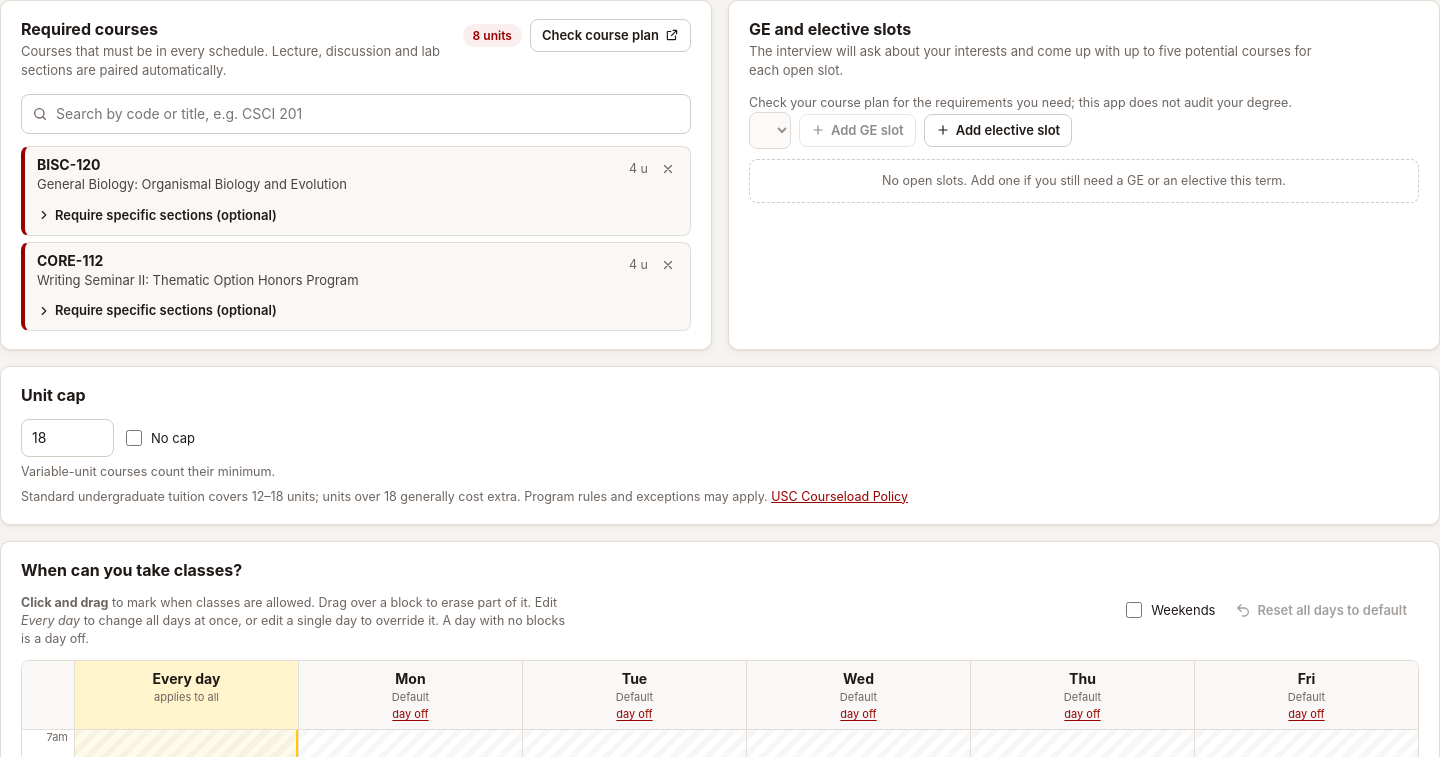
clear-section vs remove-course controls › each course's pin area starts collapsed, expands and collapses on its own, and keeps pins while collapsed
Expected: the button "Require specific sections (optional)" below "CORE-112" is shown, [37, 299, 281, 322]
Click the button "Require specific sections (optional)" below "BISC-120": x=159, y=215 [37, 204, 281, 226]
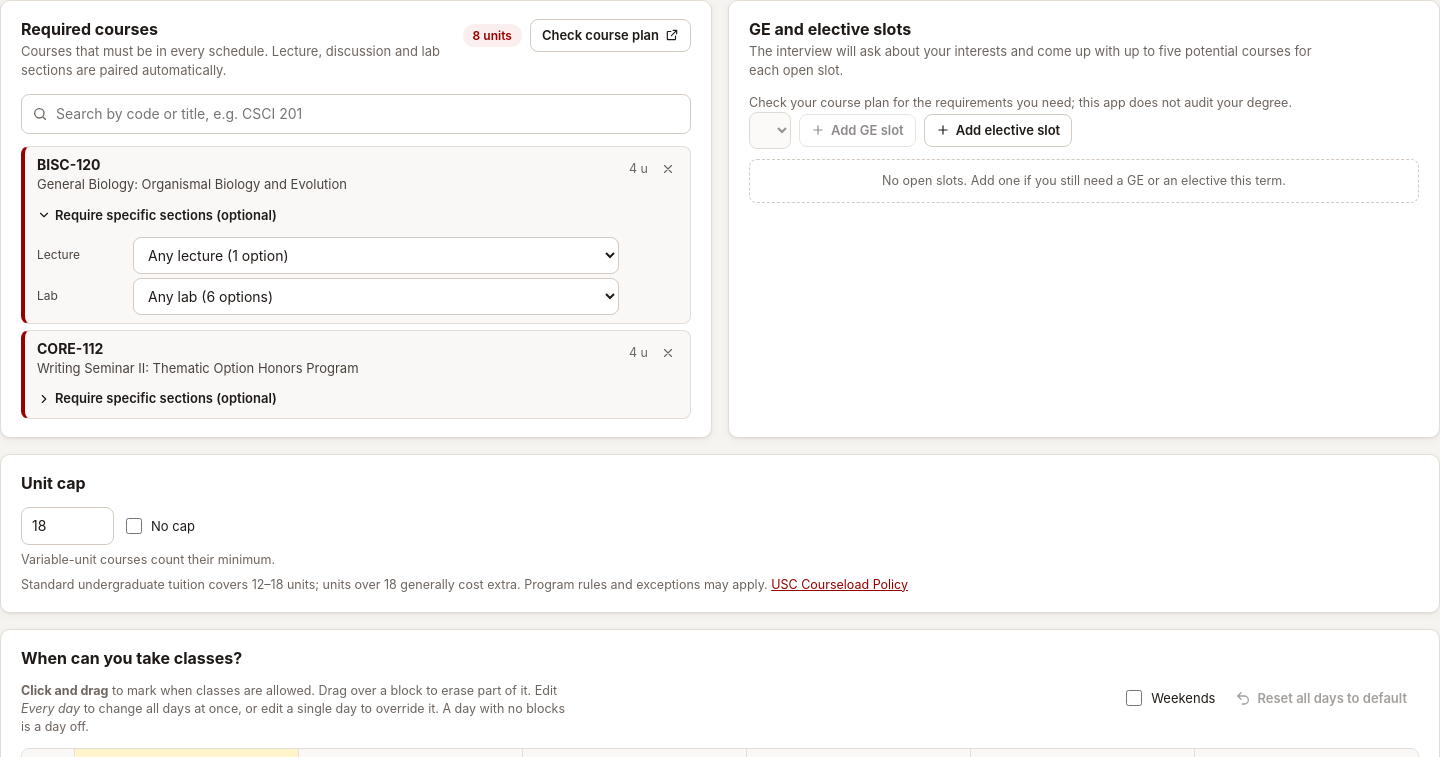
Result: the button "Require specific sections (optional)" below "BISC-120" is expanded at [37, 204, 281, 226]
Select "13003 · TuTh 2:00 PM - 3:20 PM · Raffaella Ghittoni · Register for lecture and o" in the dropdown labelled "Lecture": x=376, y=255 [133, 237, 619, 274]
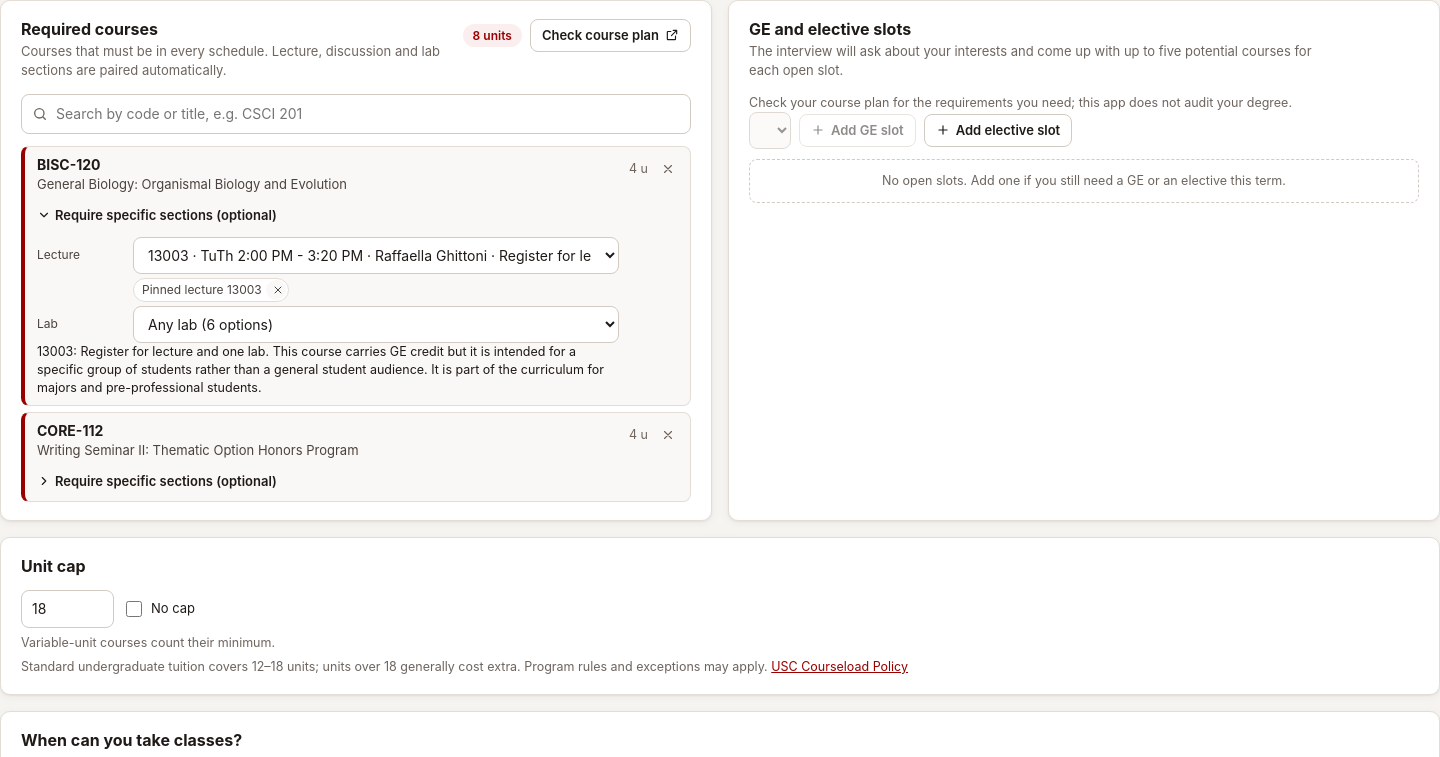
Select "13006 · Th 11:00 AM - 1:50 PM · Instructor TBA" in the dropdown labelled "Lab": x=376, y=324 [133, 306, 619, 343]
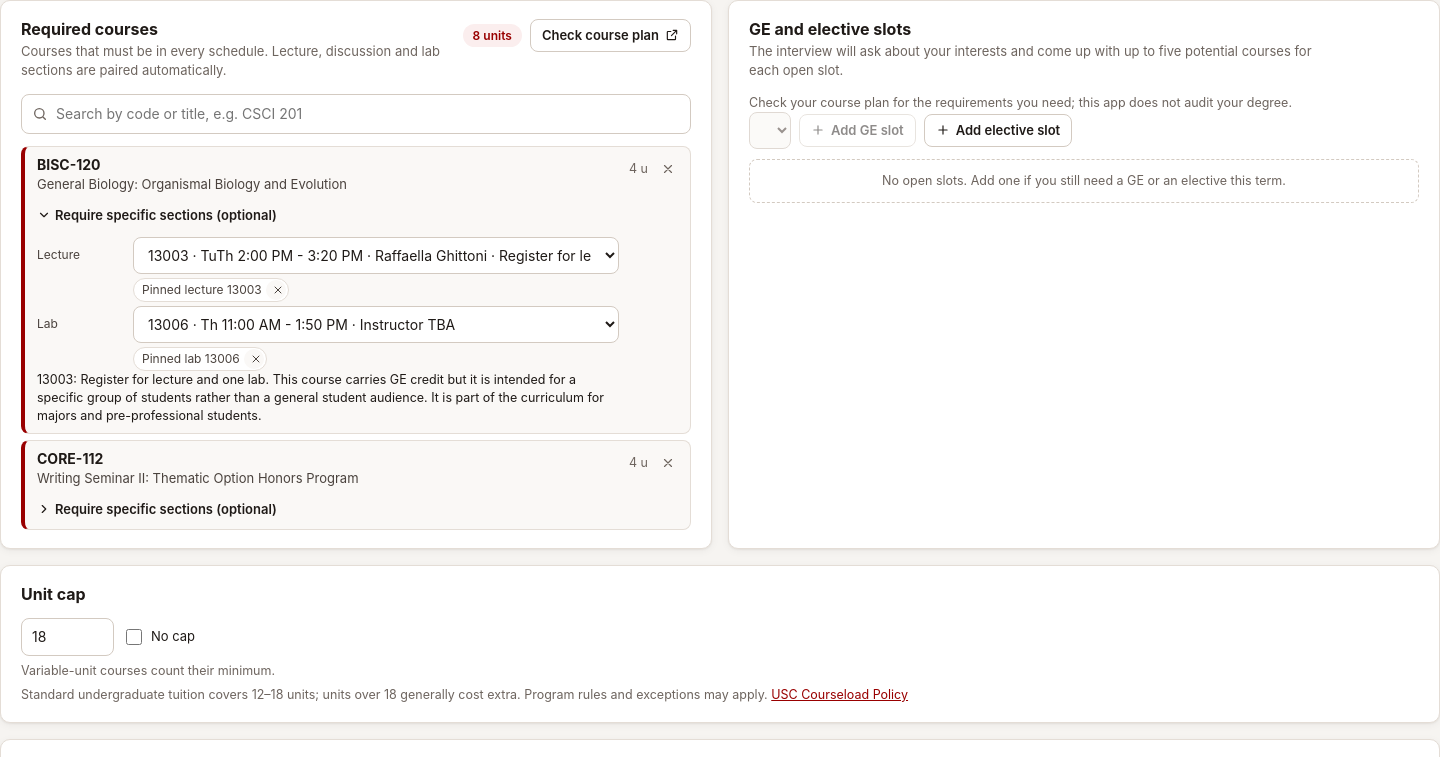
Click the button "Require specific sections (optional)" below "BISC-120": x=159, y=215 [37, 204, 281, 226]
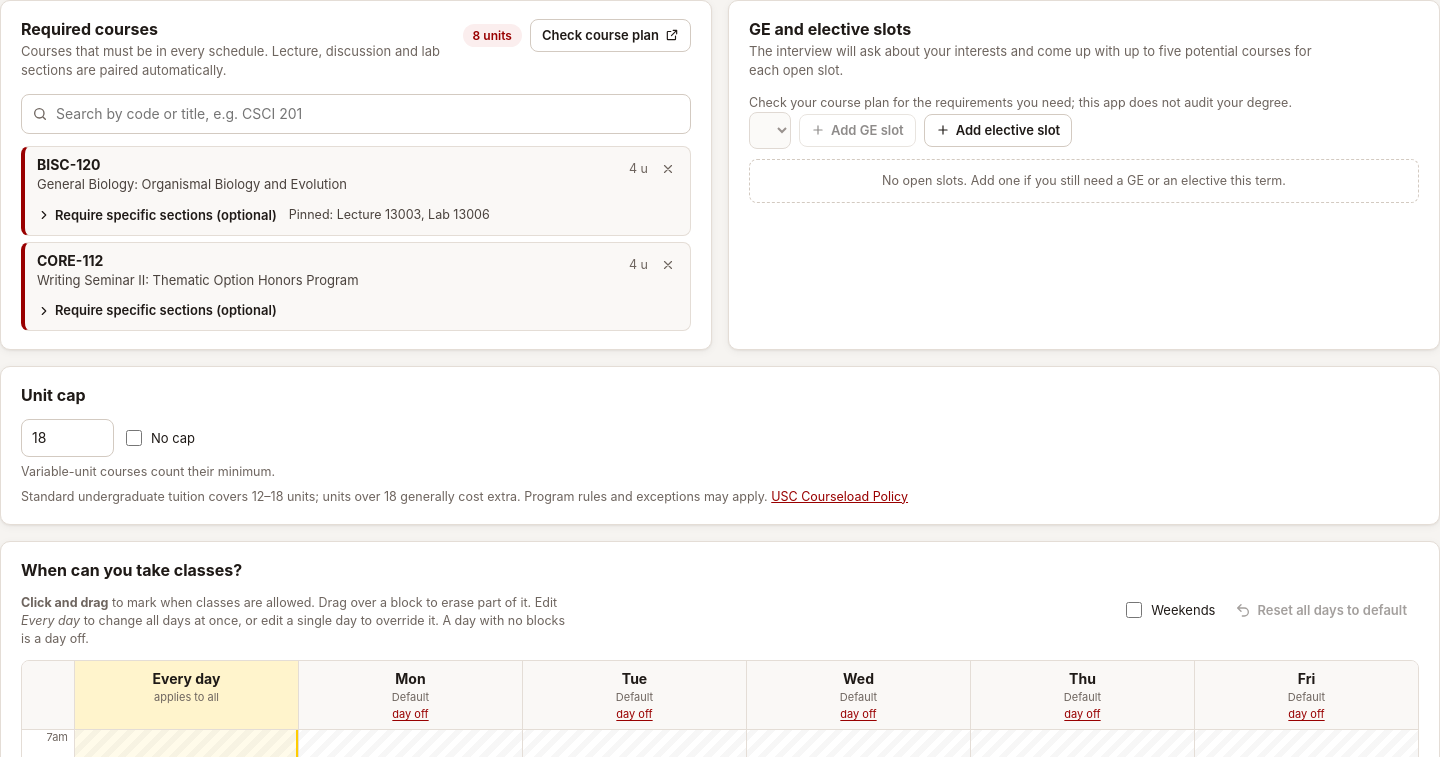
Result: the button "Require specific sections (optional)" next to "Pinned:" is collapsed at [37, 204, 281, 226]
Result: the text "Pinned: Lecture 13003, Lab 13006" is shown at [289, 206, 490, 224]
